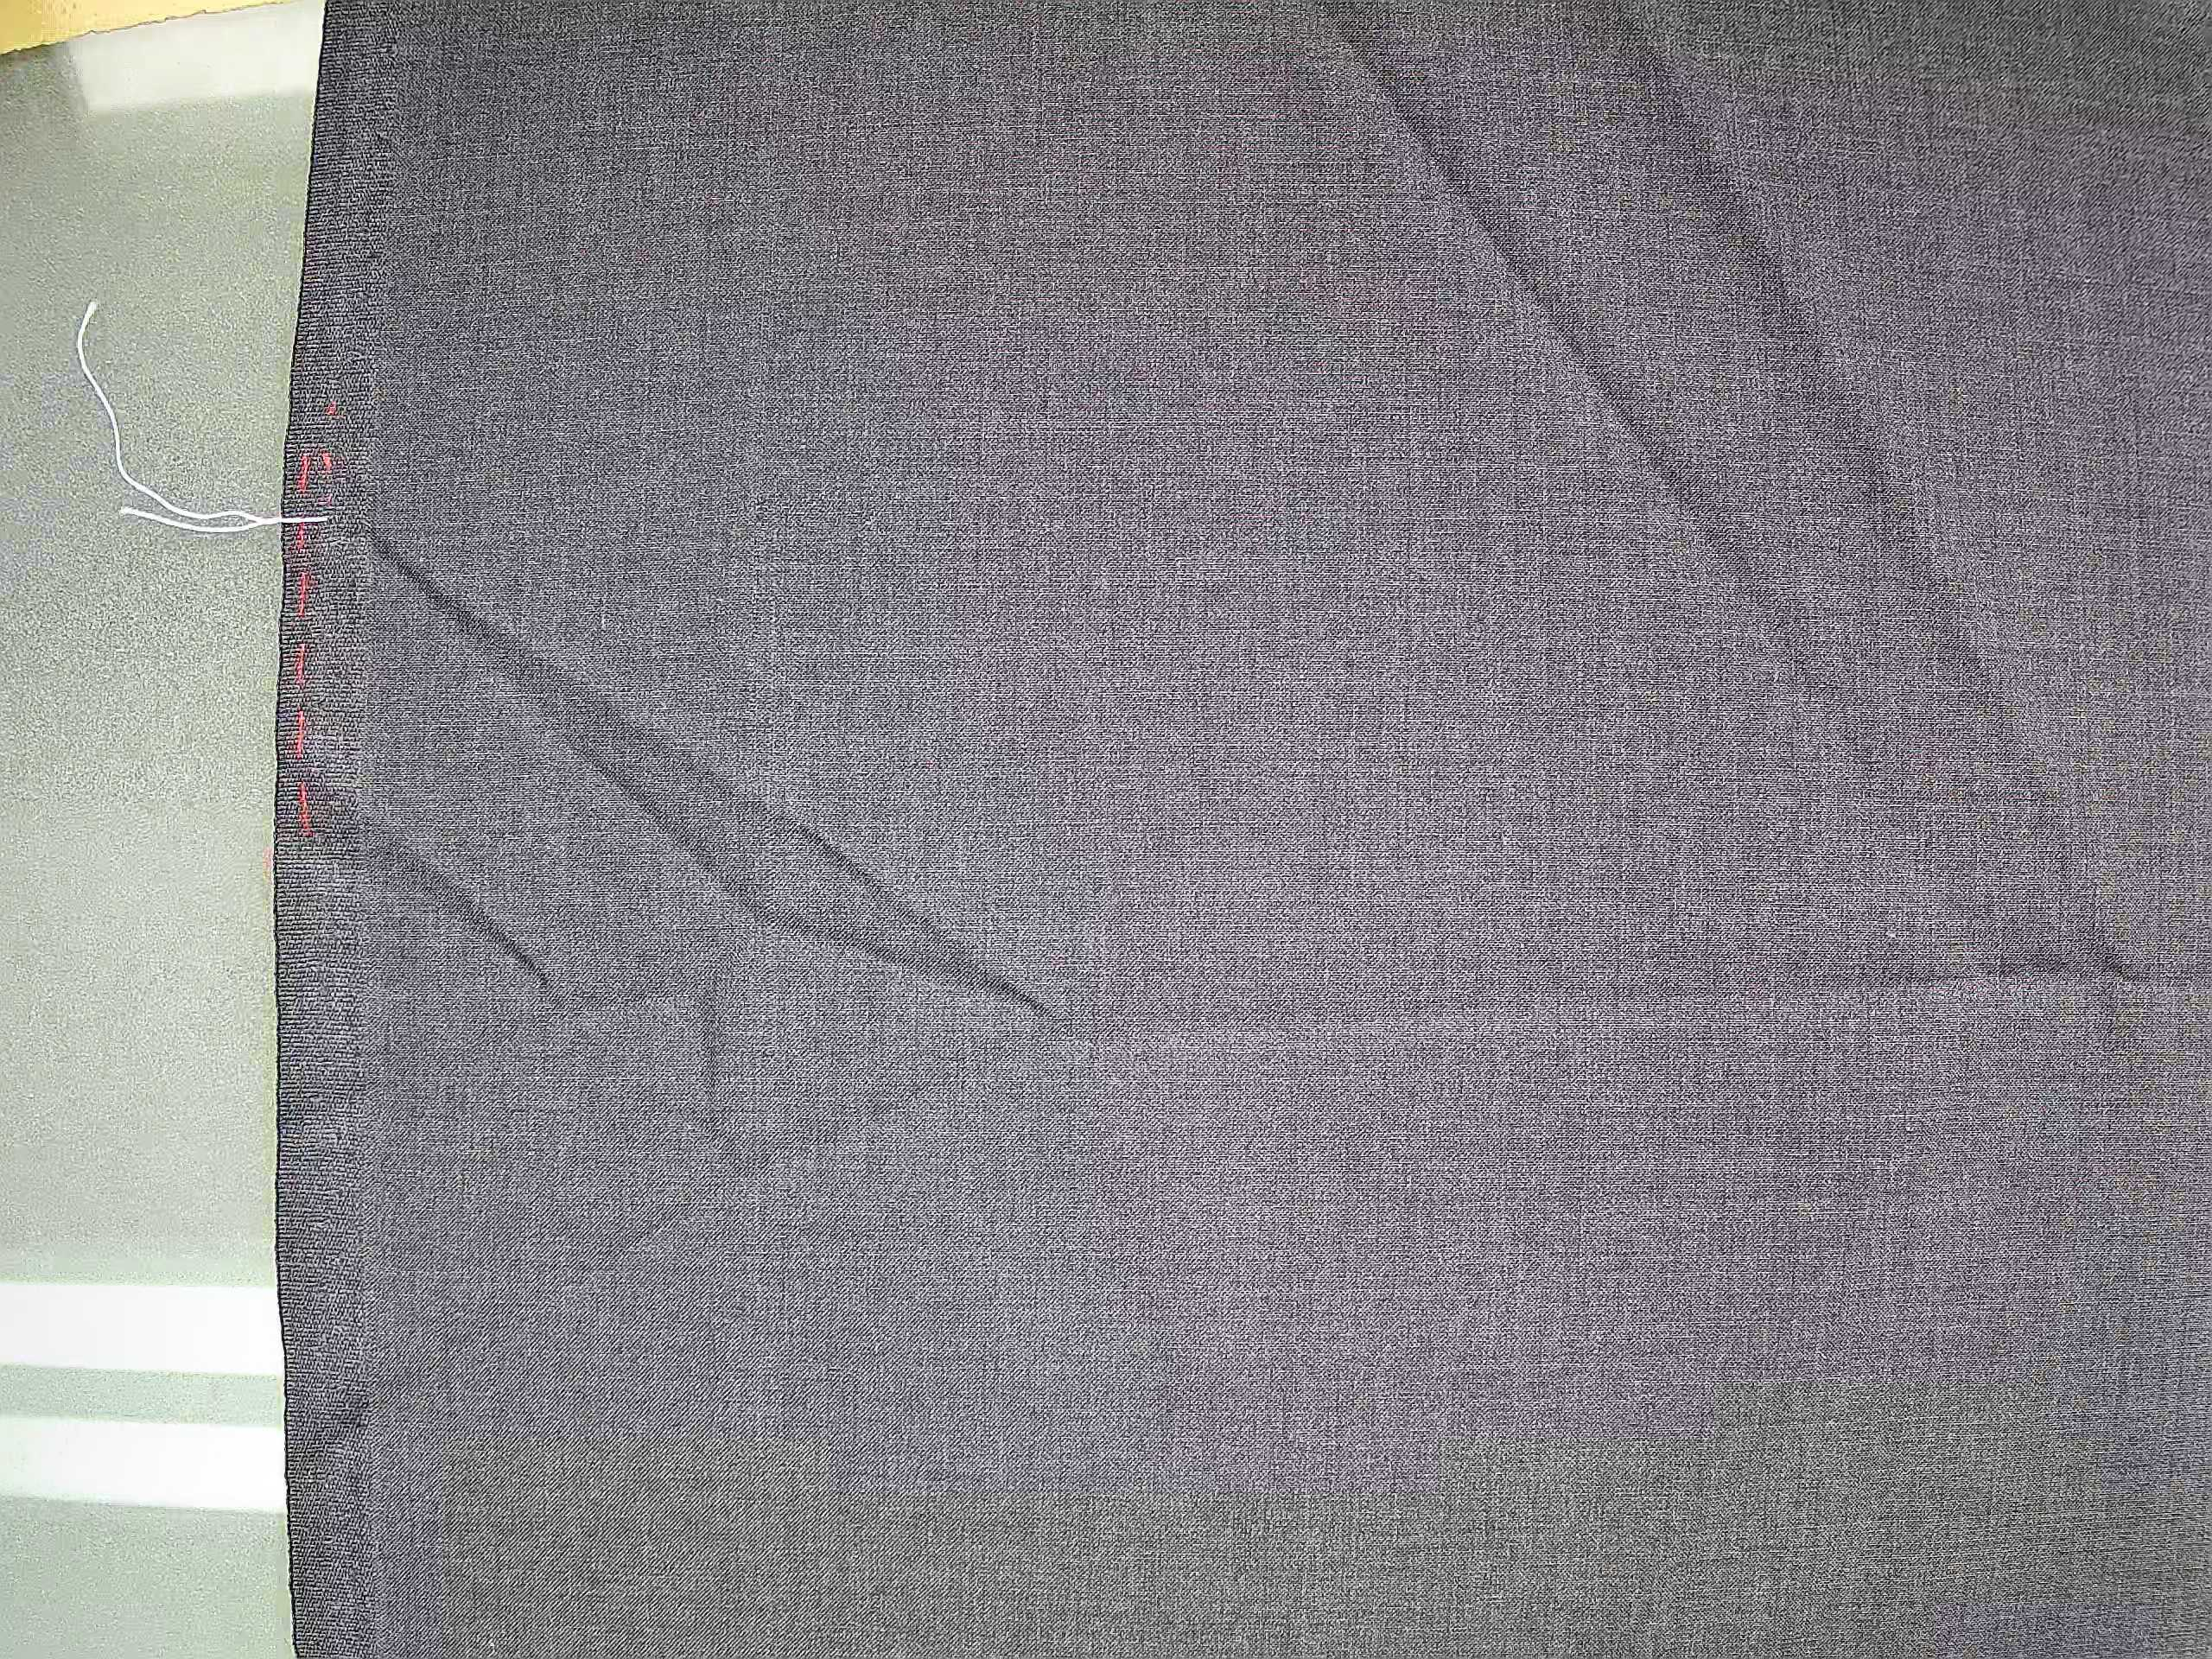jumps: (1439, 498, 1886, 544), (951, 392, 1291, 446), (1325, 444, 1583, 484)
